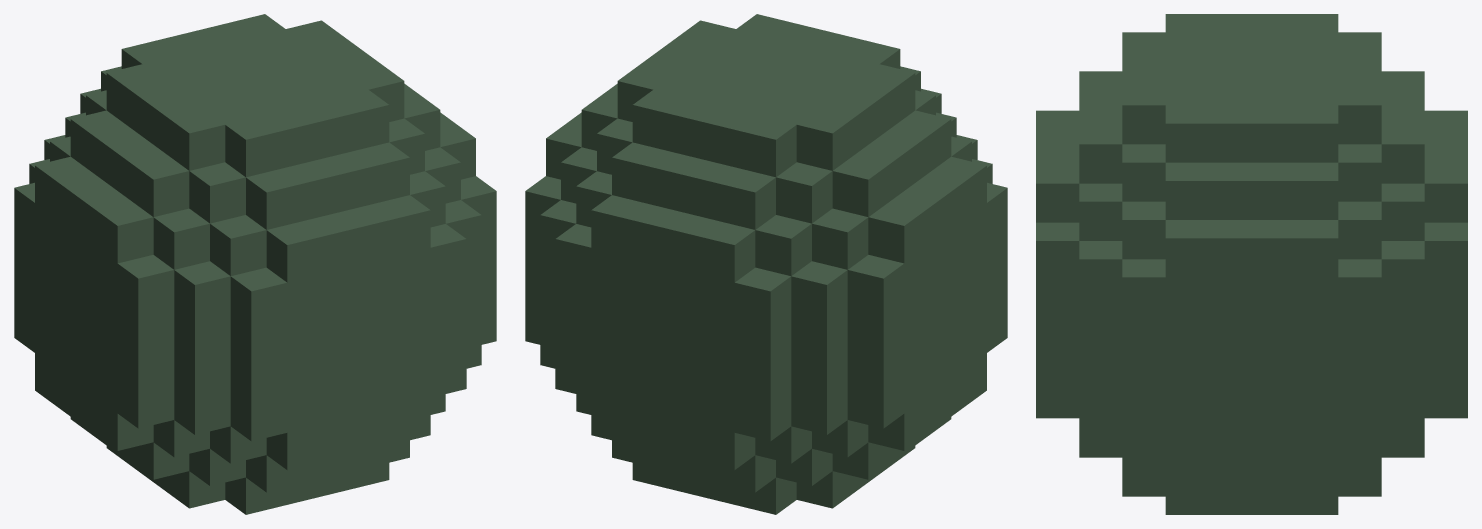
Rendered from sphere_green.fbx.
3 views of the same model, side by side, from view 1: azimuth 30°, elevation 25°; view 2: azimuth 150°, elevation 25°; view 3: azimuth 270°, elevation 25° (orthographic). The views are drawn at different scales.
Visible parts, largest first — view 1: sphere_green; view 2: sphere_green; view 3: sphere_green.
Part boxes in pixels (x1,y1,x2,y2): sphere_green: (14,14,496,514); sphere_green: (525,14,1007,514); sphere_green: (1036,14,1467,514).
Size of the model in its own units: 10 by 10 by 10.
Materials: 1 (1 with a texture image).
